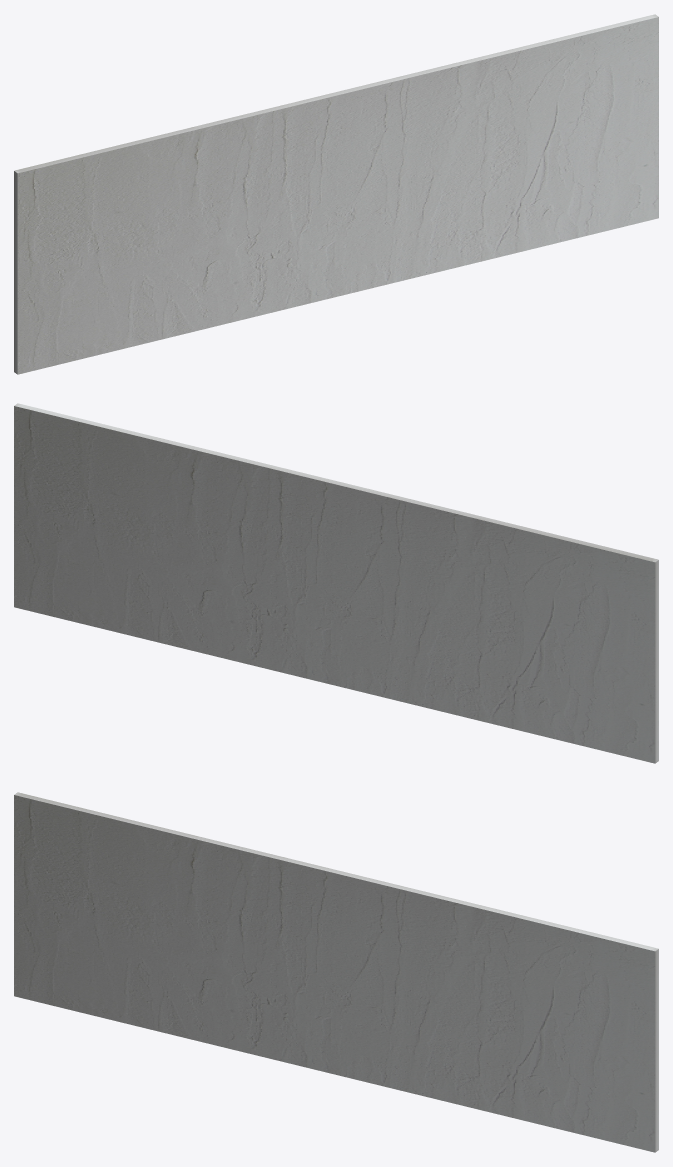
File: WallPanel.FBX
The picture shows the model from 3 angles, top to bottom: view 1: azimuth 30°, elevation 25°; view 2: azimuth 150°, elevation 25°; view 3: azimuth 330°, elevation 25°; orthographic projection.
Visible parts, largest first — view 1: Box002; view 2: Box002; view 3: Box002.
Boxes of the visible parts, x1,y1,x2,y2 form: Box002: (14, 14, 658, 374); Box002: (14, 403, 658, 763); Box002: (14, 792, 658, 1152).
Size of the model in its own units: 100 by 30 by 1.
1 material, 1 textured.
